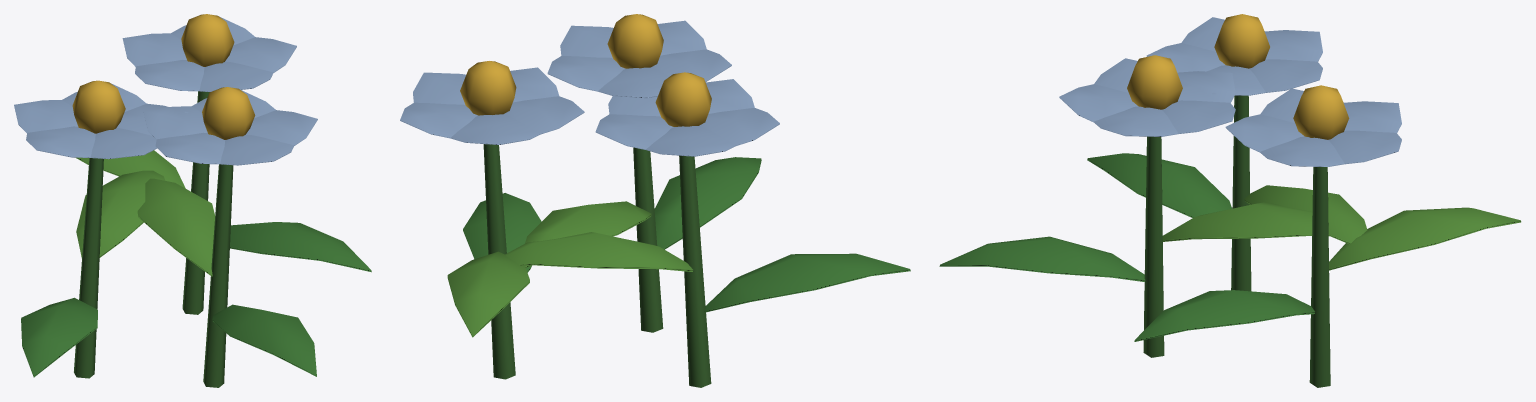
File: blue_flower.glb
3 views of the same model, side by side, from view 1: azimuth 30°, elevation 25°; view 2: azimuth 150°, elevation 25°; view 3: azimuth 270°, elevation 25° (orthographic). The views are drawn at different scales.
Visible parts, largest first — view 1: blue_flower; view 2: blue_flower; view 3: blue_flower.
Boxes of the visible parts, x1=… form: blue_flower: x1=14, y1=14, x2=371, y2=387; blue_flower: x1=400, y1=14, x2=910, y2=387; blue_flower: x1=939, y1=14, x2=1521, y2=387.
Size of the model in its own units: 0.4532 by 0.3521 by 0.6081.
